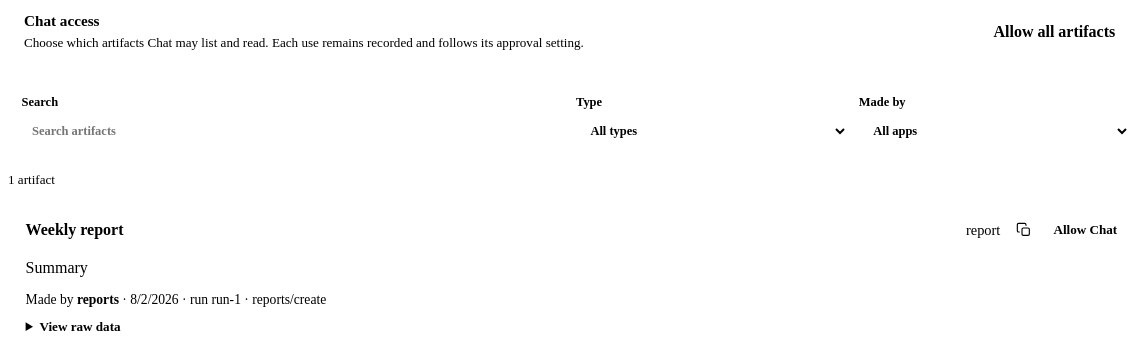
Test: StuffPage artifact access › copies the artifact id to the clipboard from the card
Click the button named "Copy artifact ID": (1024, 230) [1012, 218, 1036, 242]
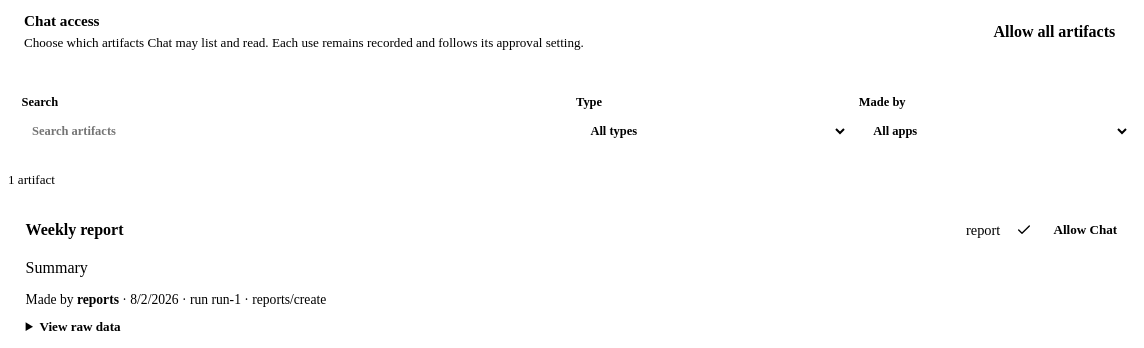
Expected: the button named "Copied artifact ID" is shown, [1012, 218, 1036, 242]
